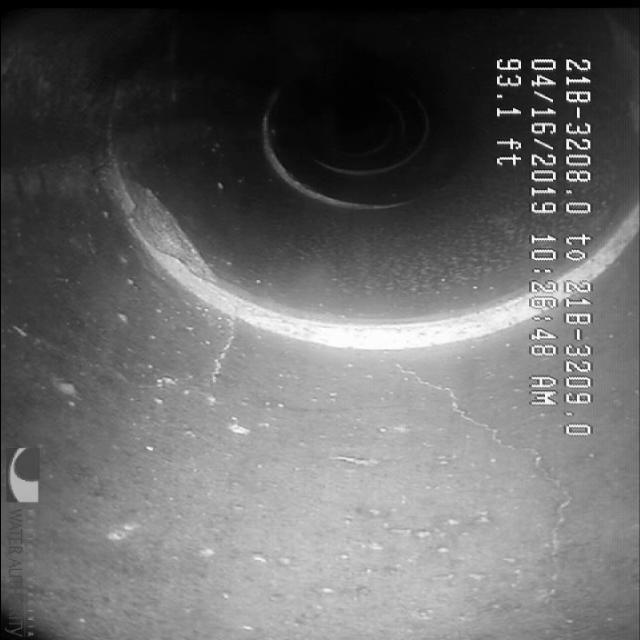Crack: (395, 373, 565, 486)
